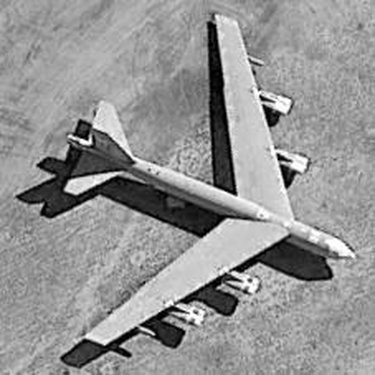airplane: (16, 7, 369, 371)
